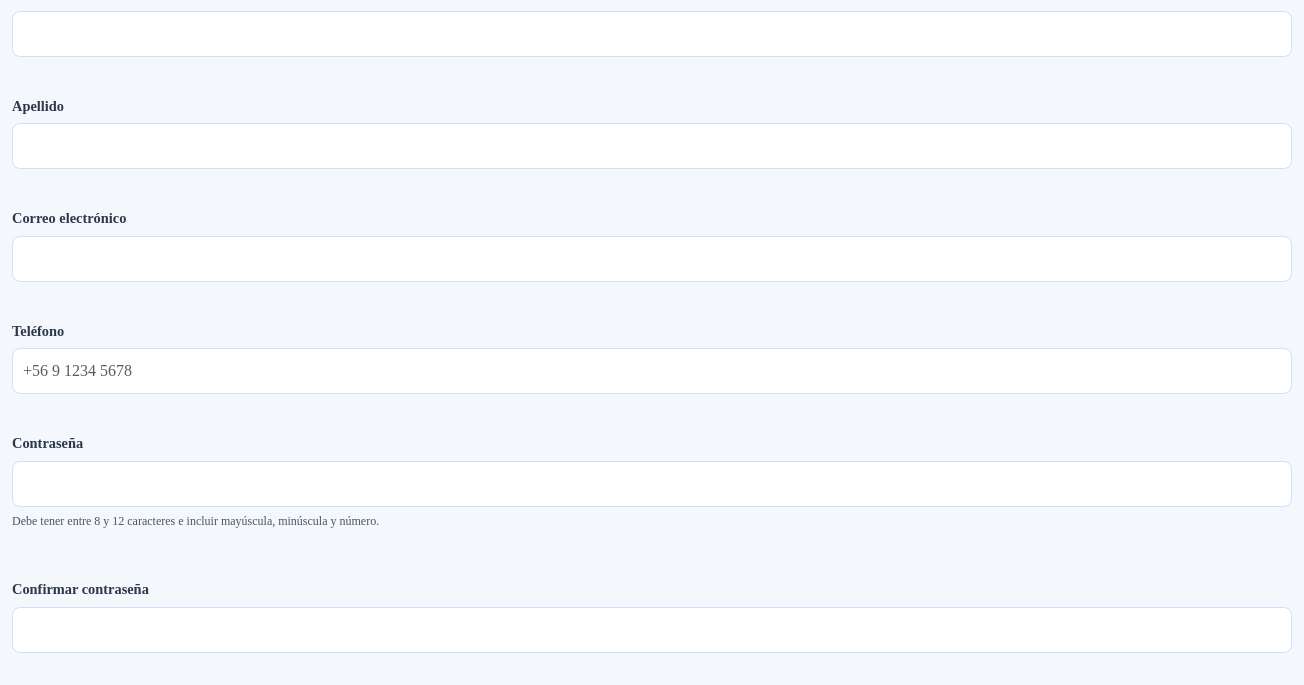
Scenario: RegistroFormulario › muestra un error y no registra si el teléfono no es válido
This screenshot has width=1304, height=685.
Type "Julio" into the field labelled "Nombre".
click(652, 34); type("Julio")  # box [12,11,1292,57]
Type "Pérez" into the field labelled "Apellido".
click(652, 146); type("Pérez")  # box [12,123,1292,169]
Type "julio@gmail.com" into the field labelled "Correo electrónico".
click(652, 259); type("julio@gmail.com")  # box [12,236,1292,282]
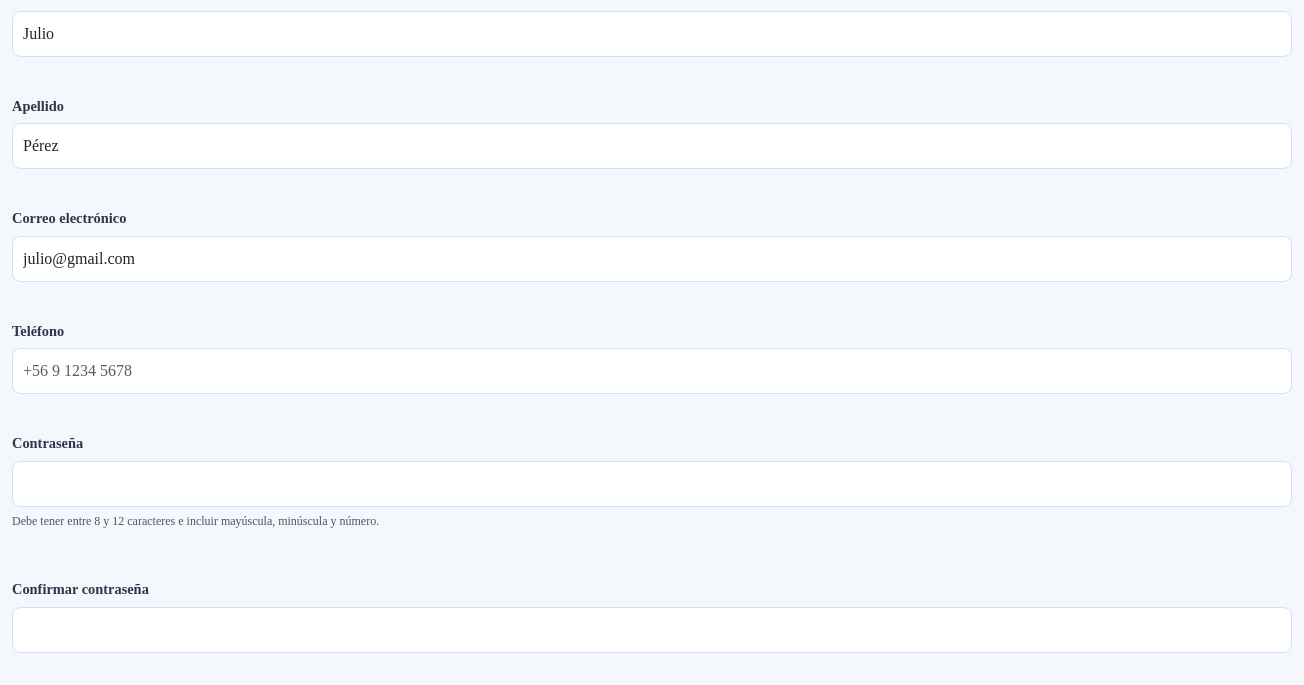
Type "123" into the field labelled "Teléfono".
click(652, 371); type("123")  # box [12,348,1292,394]
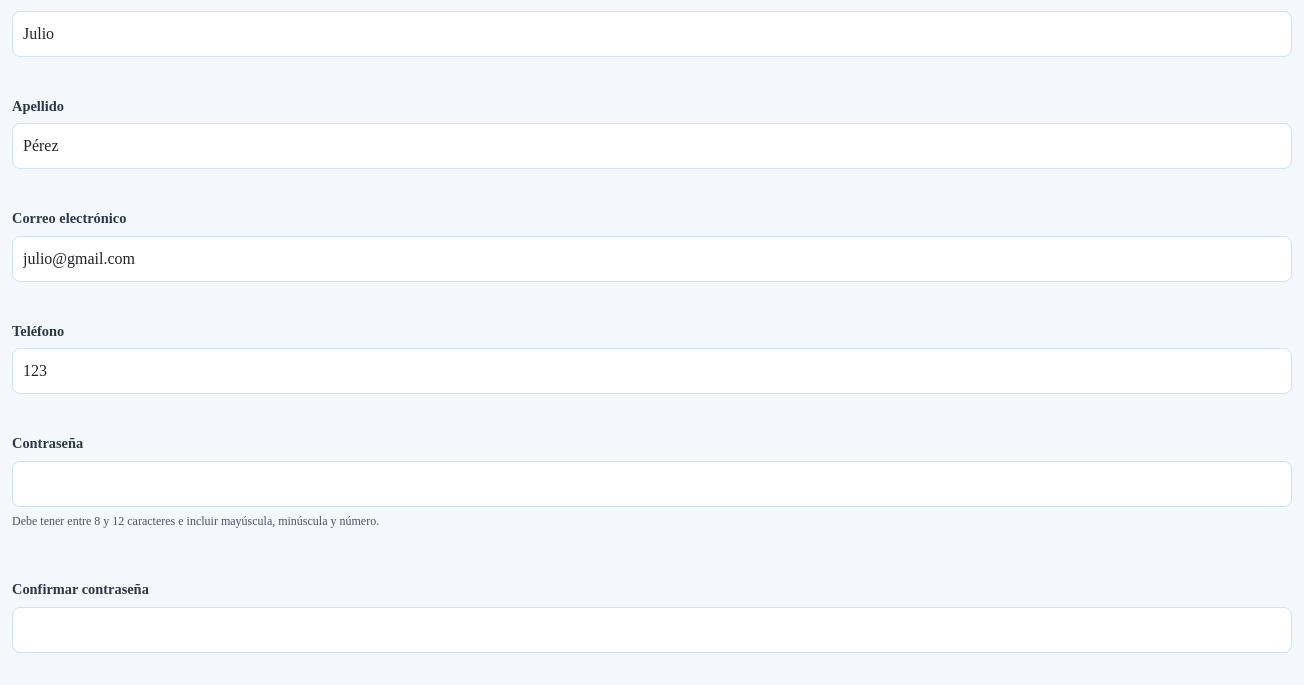
Type "Clave123" into the password field labelled "Contraseña".
click(652, 484); type("Clave123")  # box [12,461,1292,507]
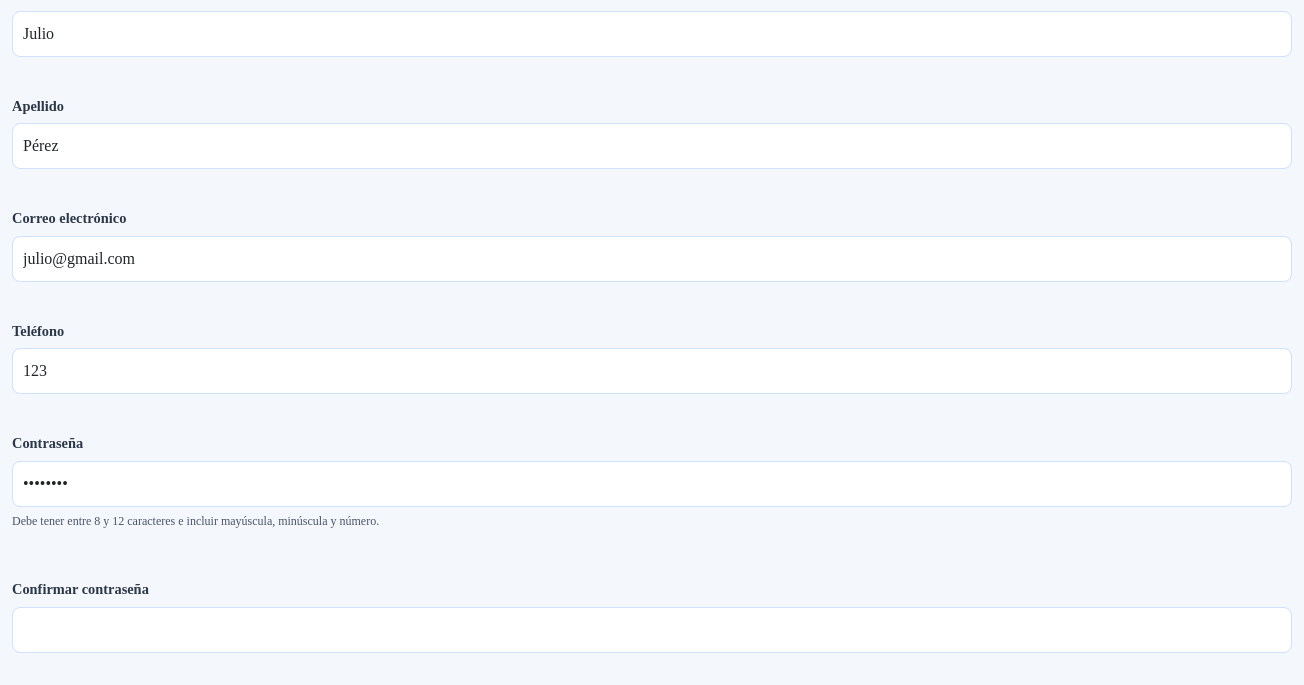
Type "Clave123" into the password field labelled "Confirmar contraseña".
click(652, 630); type("Clave123")  # box [12,607,1292,653]
(page scrolled)
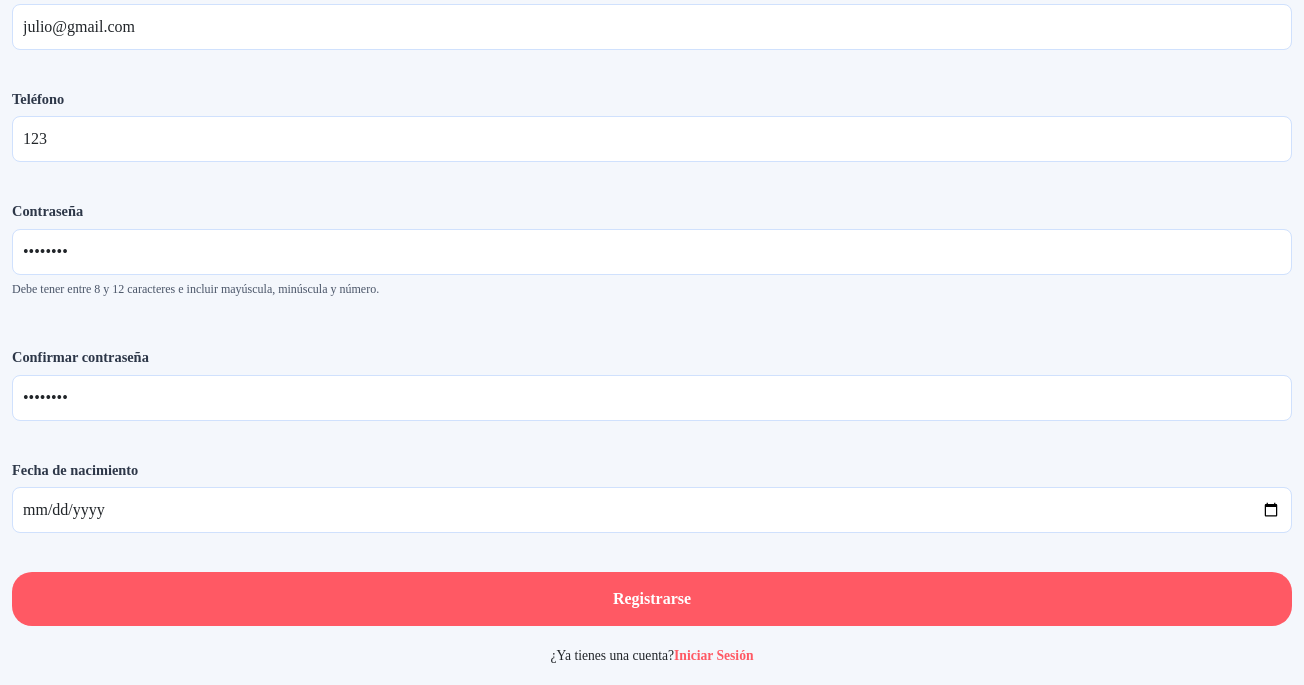
Type "2000-01-01" into the date field labelled "Fecha de nacimiento".
click(652, 510); type("2000-01-01")  # box [12,487,1292,533]
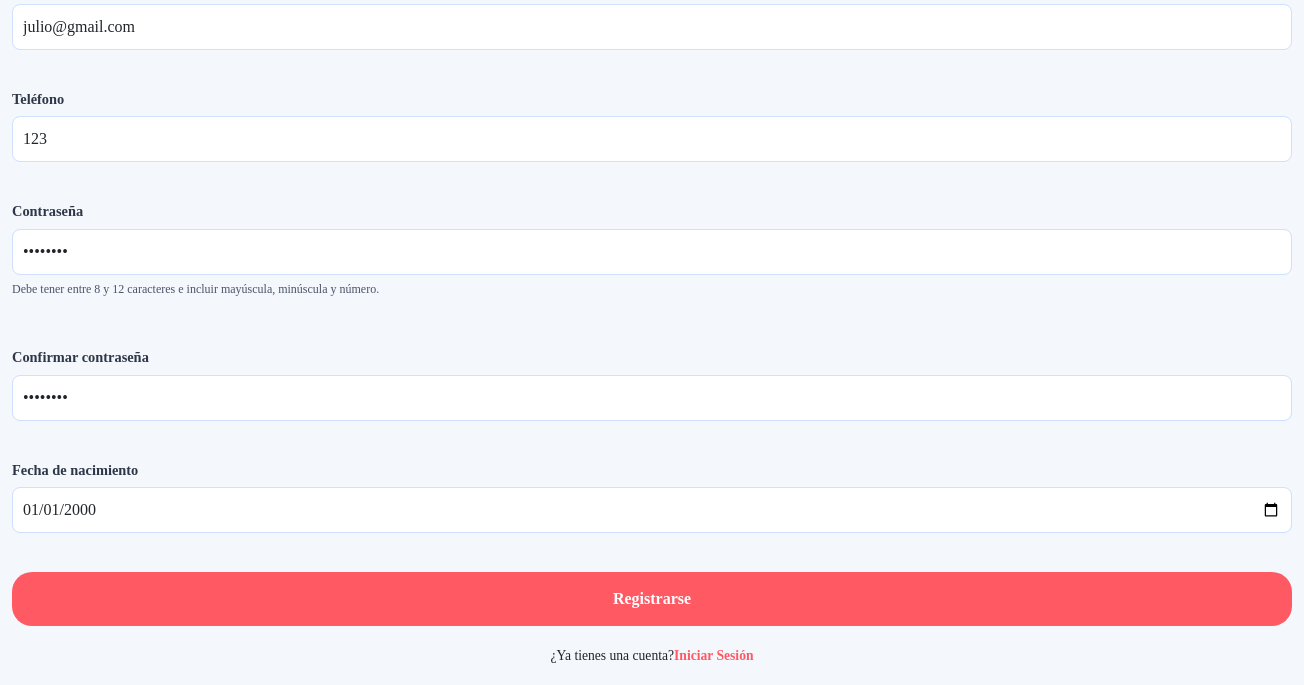
Click the button "Registrarse".
click(652, 599)  # box [12,572,1292,626]
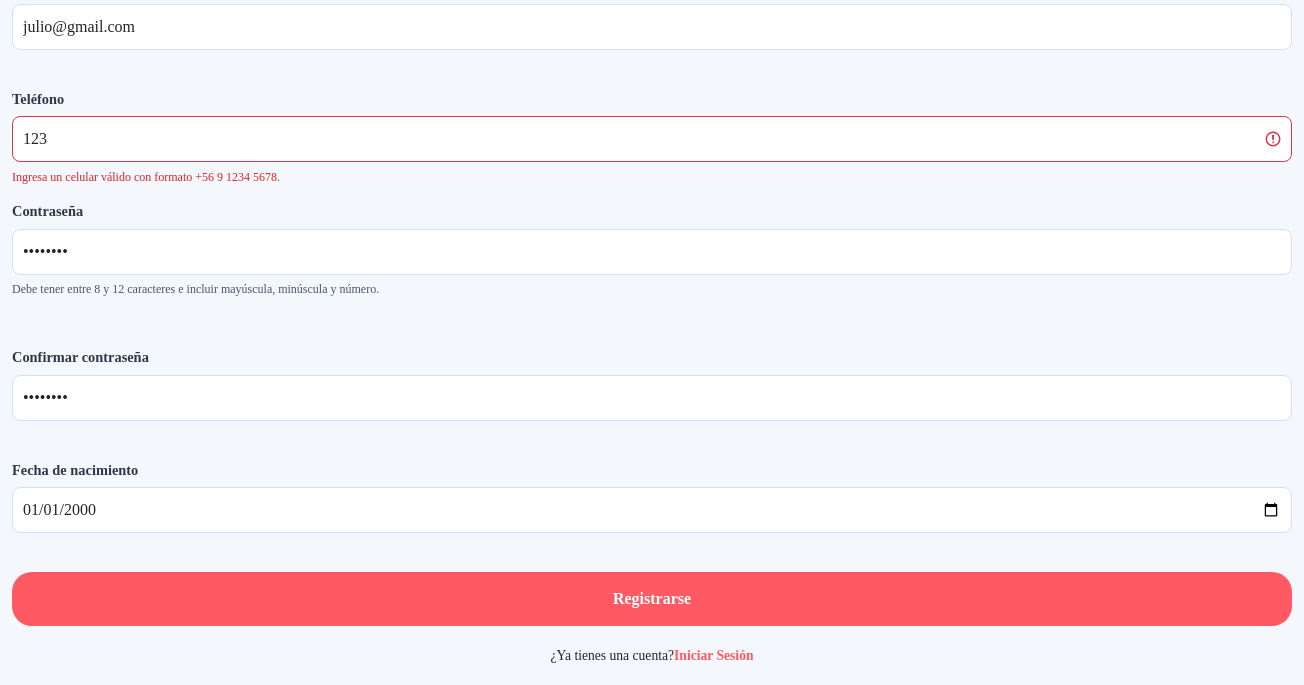
Now the text "Ingresa un celular válido con formato +56 9 1234 5678." is shown, box [12,170,280,184]
